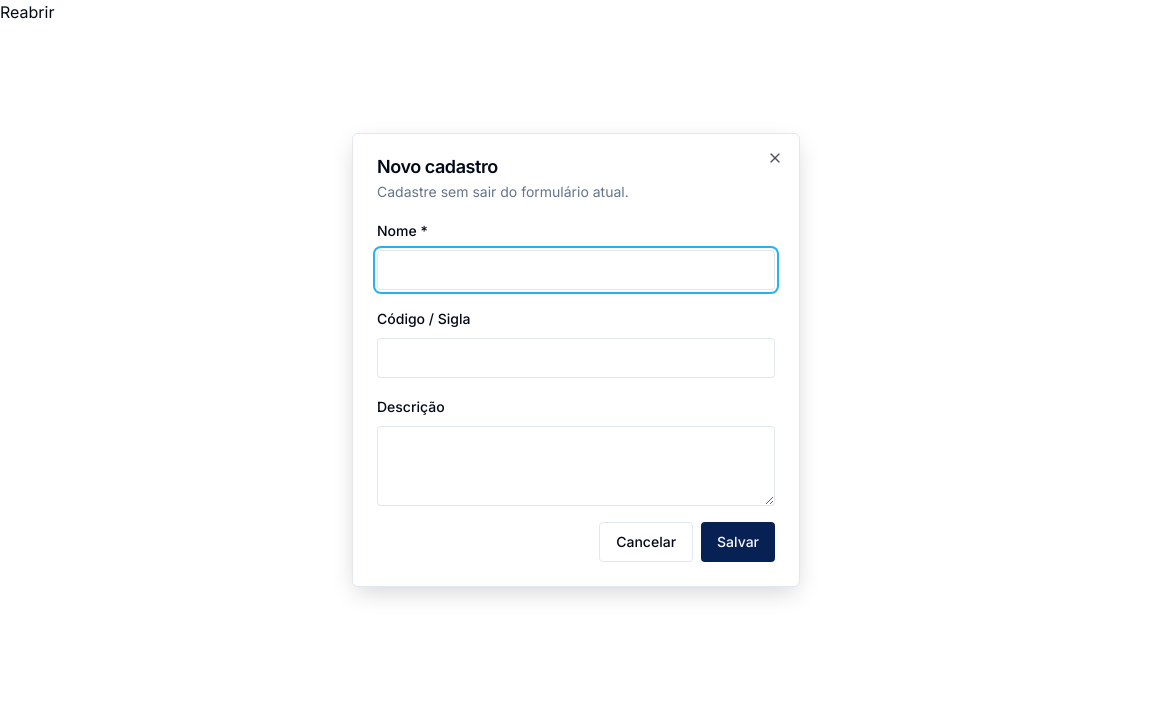
QuickAddDialog › aplica trim, seleciona o criado e fecha no sucesso
In the field labelled "Nome *": (576, 270) [377, 250, 775, 290], type "  Novo  "
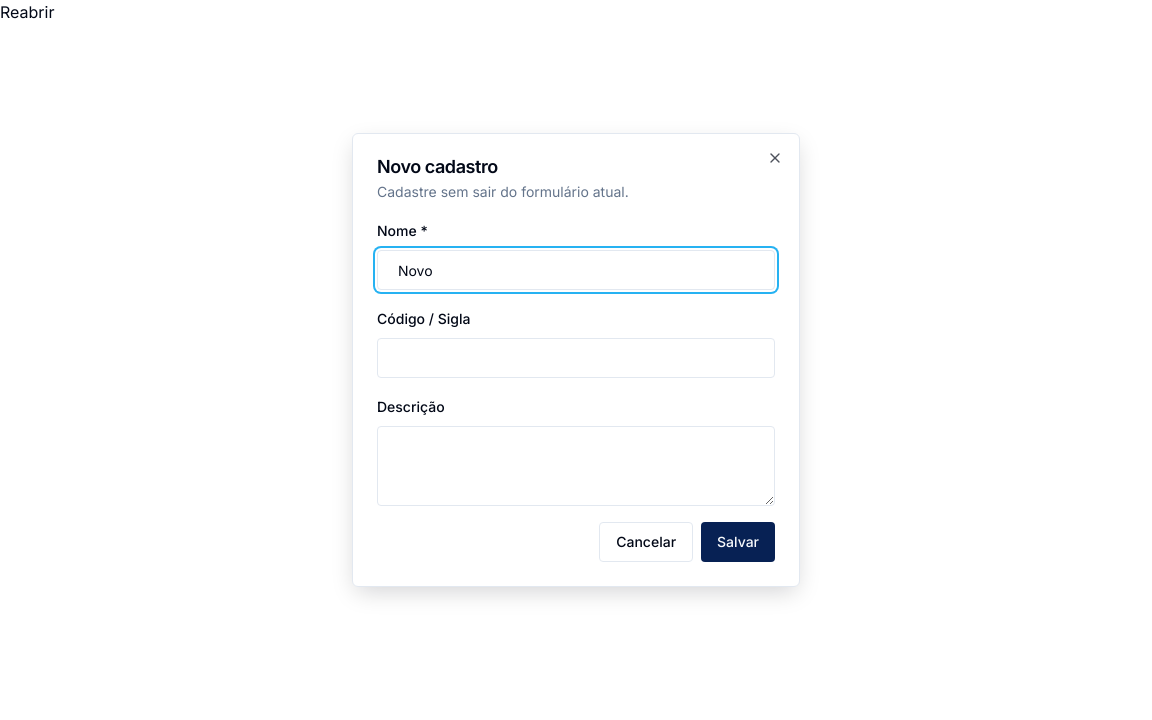
In the field labelled "Código / Sigla": (576, 358) [377, 338, 775, 378], type "  N  "
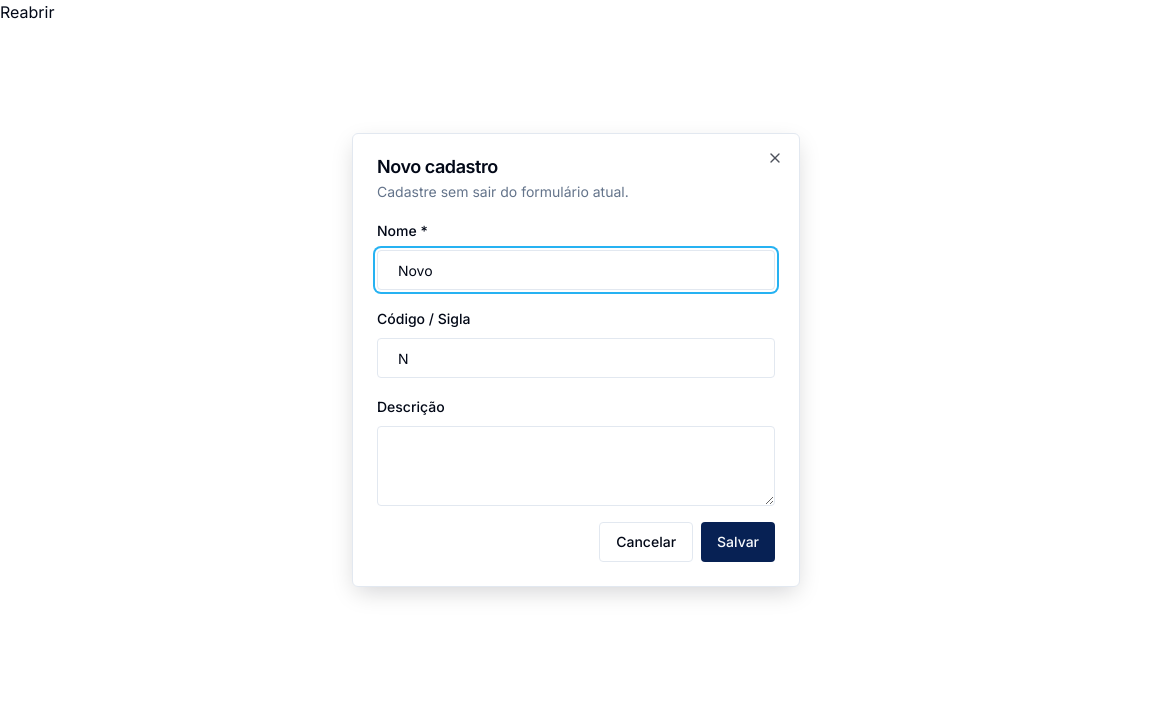
In the text box labelled "Descrição": (576, 466) [377, 426, 775, 506], type "  Teste  "
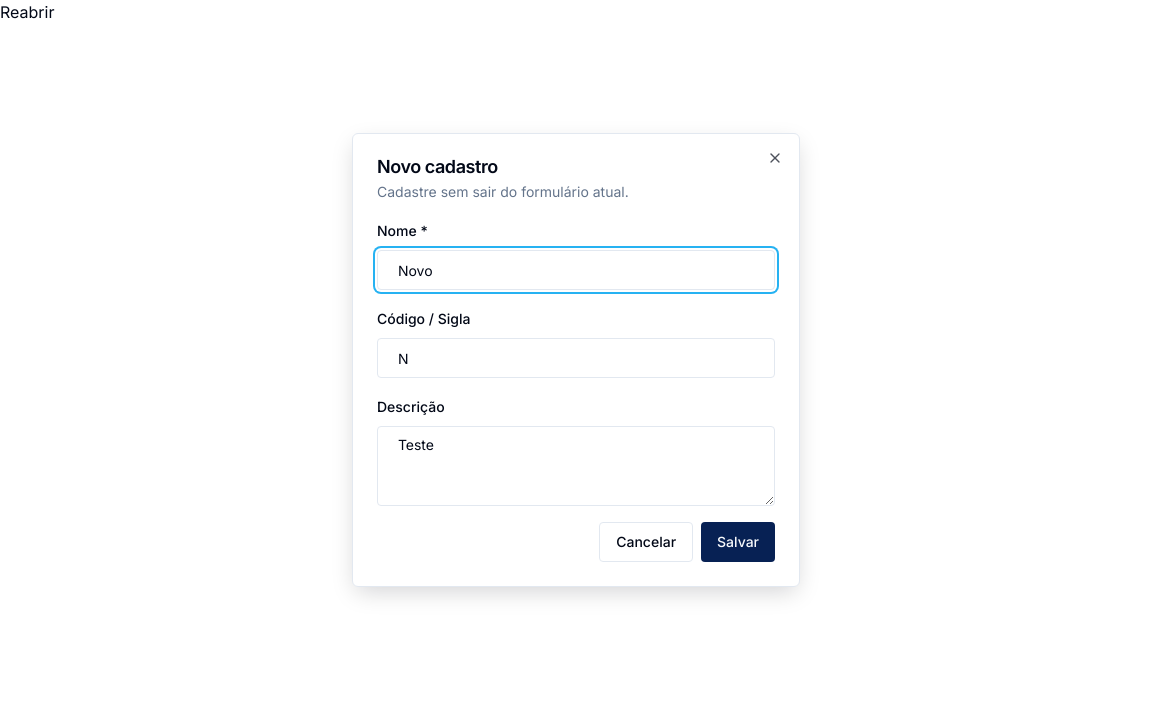
Click the button "Salvar": click(738, 542) [701, 522, 775, 562]
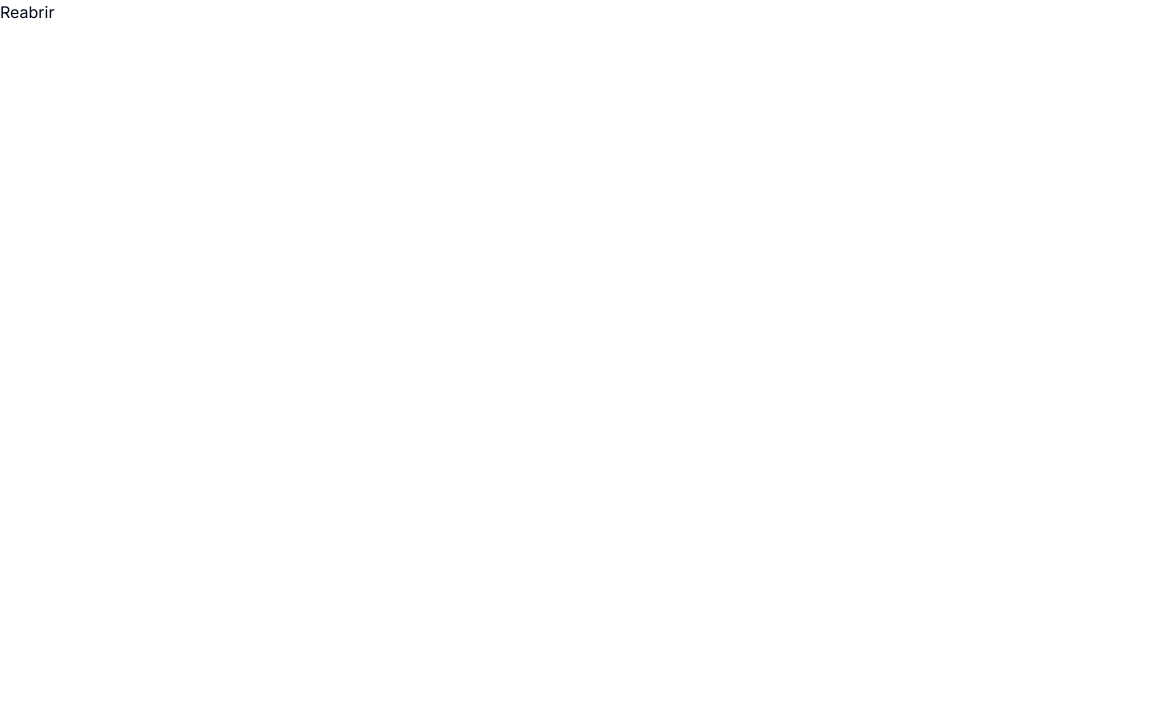
Check: the dialog is gone
